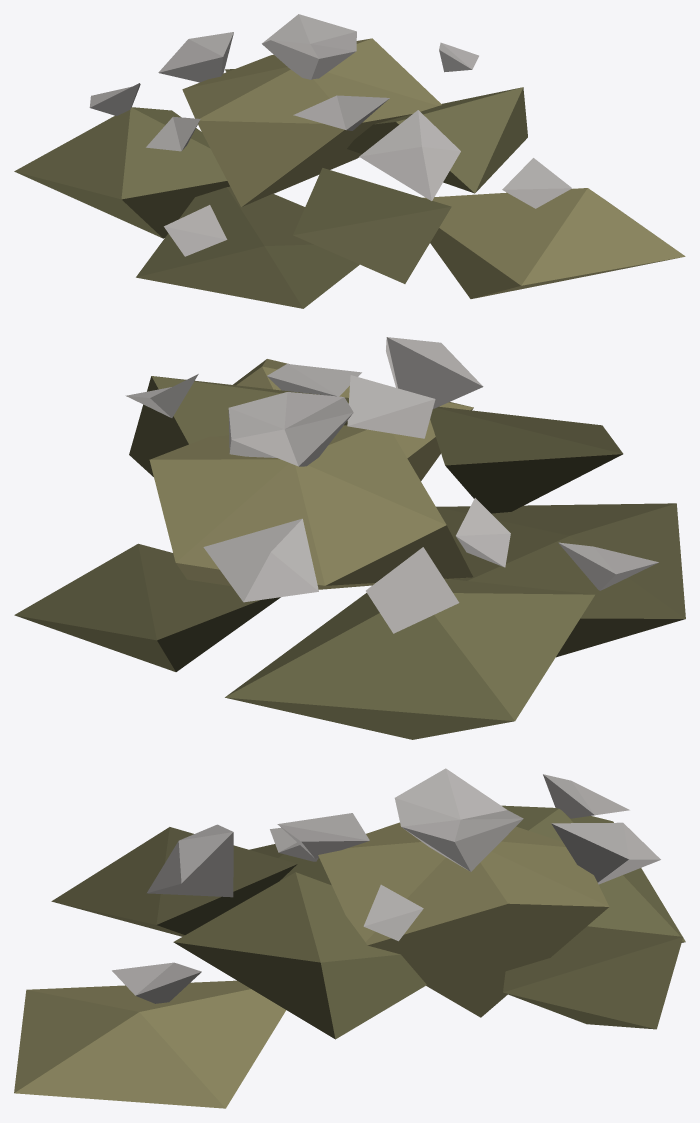
File: SM_Env_Flowers_04.glb
3 views of the same model, one above another, from view 1: azimuth 30°, elevation 25°; view 2: azimuth 150°, elevation 25°; view 3: azimuth 270°, elevation 25° (orthographic). The views are drawn at different scales.
Visible parts, largest first — view 1: SM_Env_Flowers_04; view 2: SM_Env_Flowers_04; view 3: SM_Env_Flowers_04.
Boxes of the visible parts, box(x1,y1,x2,y2) form: SM_Env_Flowers_04: box(14, 14, 685, 308); SM_Env_Flowers_04: box(14, 337, 685, 739); SM_Env_Flowers_04: box(14, 768, 685, 1108).
Bounding box in the file's own units: 1.02 × 0.4684 × 1.1.
1 material, 1 textured.
